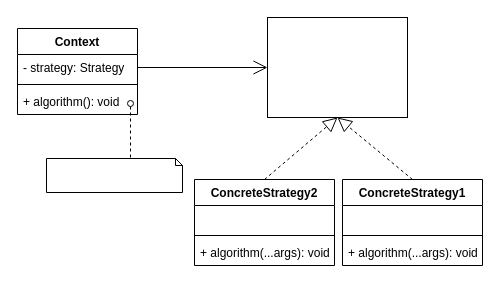
This 500x286 diagram has some shape labels left out. The shapes that lost their labels are listed below. From the top down, each one's centre as x and y in pixels, then its label:
At (x=337, y=67): "<<Interface>> Strategy + algorithm(...args): void".
At (x=114, y=175): "strategy.algorithm(args)".
